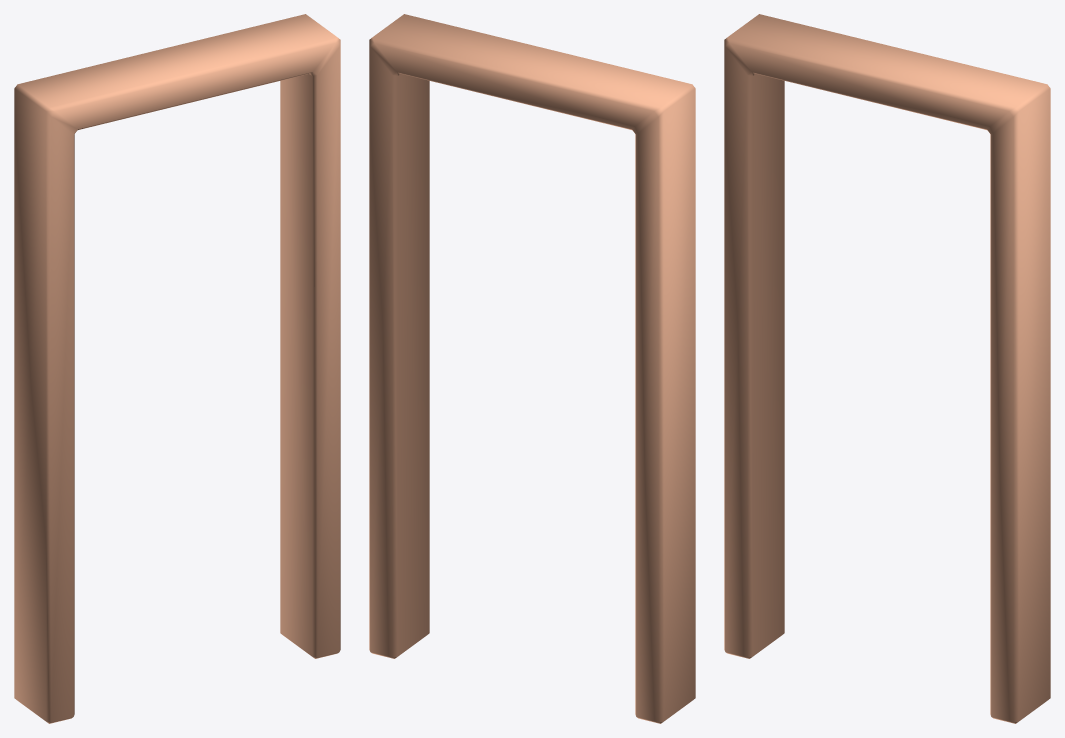
Rendered from SM_Frame_Door_5.fbx.
3 renders of one model, left to right at view 1: azimuth 30°, elevation 25°; view 2: azimuth 150°, elevation 25°; view 3: azimuth 330°, elevation 25°, orthographic.
Parts seen in each view (by area): view 1: SM_Frame_Door_5; view 2: SM_Frame_Door_5; view 3: SM_Frame_Door_5.
Part boxes in pixels (bbox=[...]): SM_Frame_Door_5: bbox=[14, 14, 340, 723]; SM_Frame_Door_5: bbox=[369, 14, 695, 723]; SM_Frame_Door_5: bbox=[724, 14, 1050, 723].
Size of the model in its own units: 124 by 248 by 26.44.
1 material, 1 textured.
